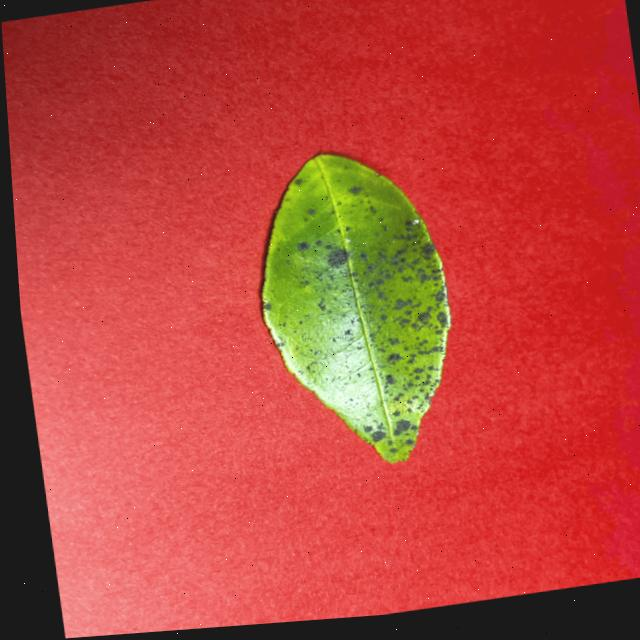sooty_mold: (261, 154, 449, 462)
